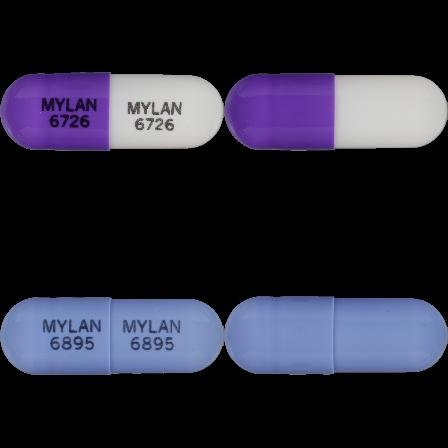0378-6726: (0, 0, 224, 224)
